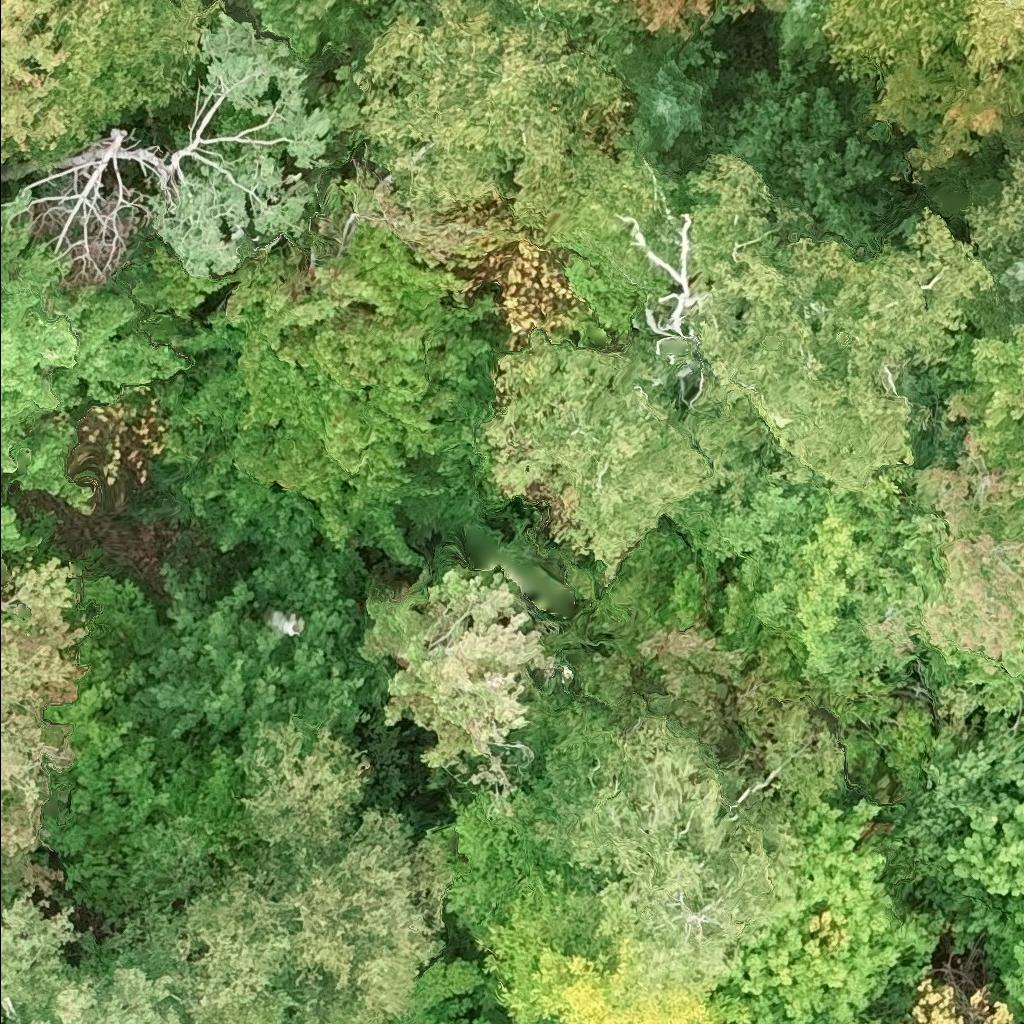crown: (137, 218, 507, 566), (99, 715, 449, 1023), (700, 205, 990, 493), (530, 694, 784, 977), (110, 533, 392, 768), (667, 467, 947, 703), (478, 326, 724, 585), (355, 0, 632, 230), (0, 205, 201, 517), (39, 647, 249, 928), (718, 796, 944, 1023), (150, 8, 335, 279), (471, 868, 755, 1023), (866, 428, 1023, 690), (378, 565, 568, 774), (0, 553, 88, 911), (34, 0, 227, 162), (0, 890, 190, 1023), (551, 143, 677, 340), (866, 37, 1023, 173), (679, 151, 812, 280), (0, 0, 105, 160), (617, 24, 728, 166), (902, 725, 1023, 850), (945, 320, 1023, 499), (821, 0, 967, 78), (952, 891, 1023, 1023), (945, 790, 1023, 899), (959, 134, 1023, 248), (619, 0, 787, 41), (951, 0, 1023, 83), (973, 244, 1023, 325), (0, 496, 46, 584), (762, 0, 828, 59), (317, 0, 385, 12), (0, 1010, 6, 1023), (1021, 32, 1023, 71), (1020, 76, 1023, 100)
